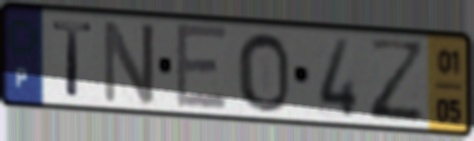4: (315, 35, 361, 121)
E: (172, 20, 230, 113)
N: (100, 16, 157, 107)
O: (234, 30, 293, 115)
T: (50, 19, 97, 100)
Z: (366, 34, 429, 123)
